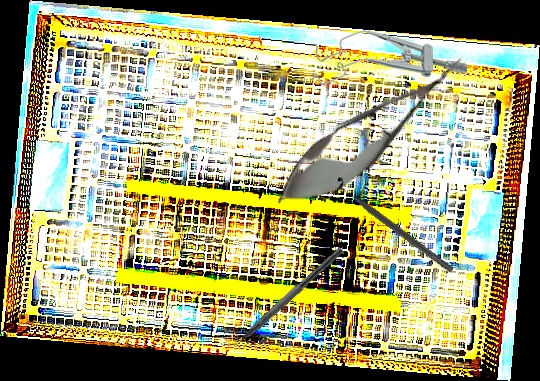Chopper: (219, 238, 345, 358)
Fixation Ring: (327, 175, 459, 280)
Micro Scissor: (260, 35, 483, 228)
Speculum: (312, 30, 467, 86)
